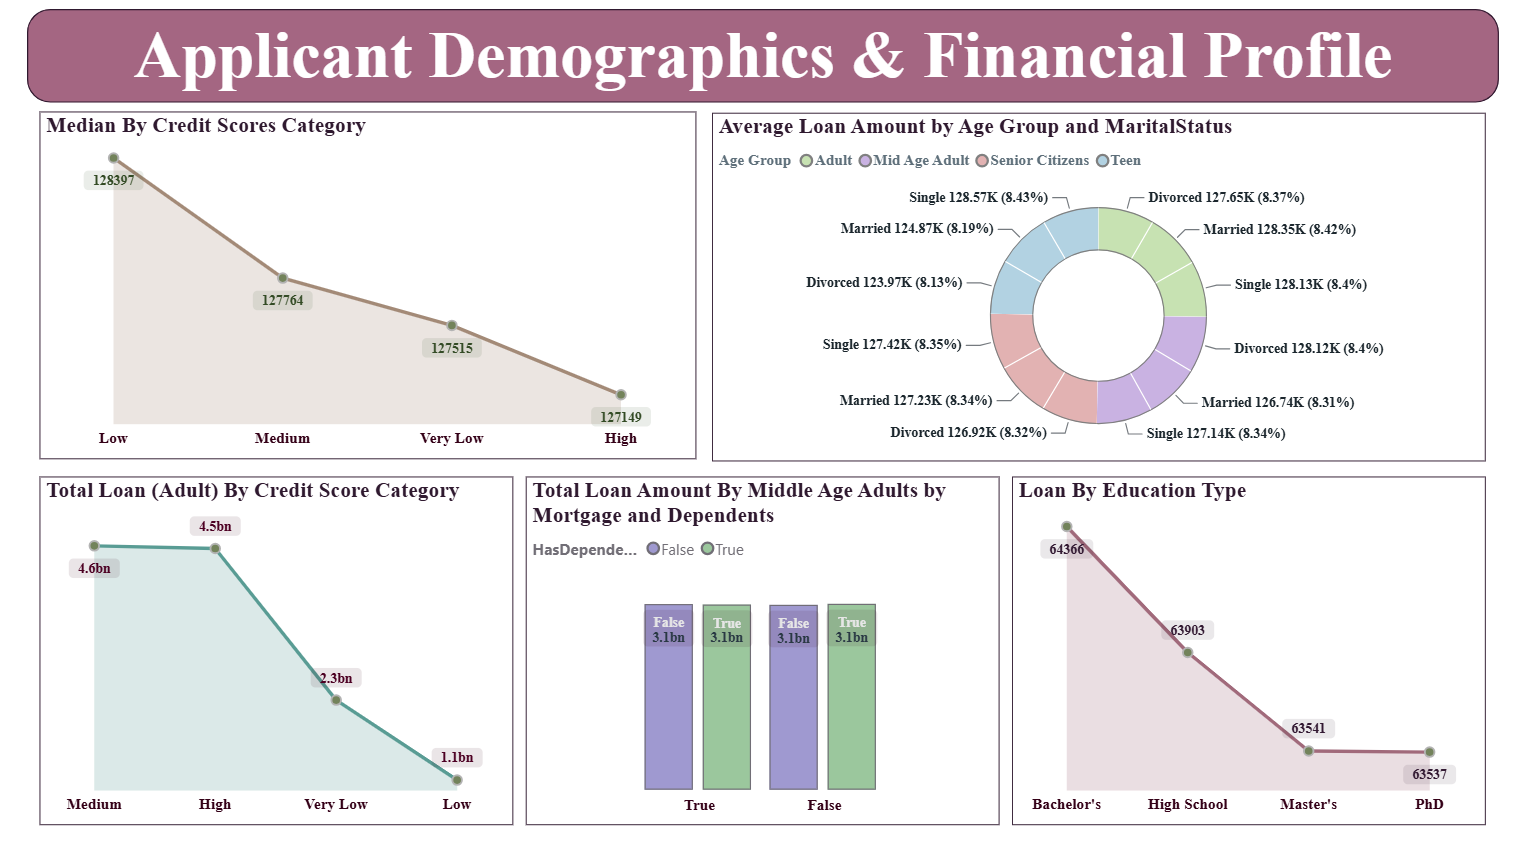

Layout of this report page (visuals, bound fields, positions):
{"tool":"powerbi","page":{"name":"Applicant Demographics & Financial Profile ","canvas":[1280,720],"ordinal":1},"visuals":[{"type":"shape","box":[0,0,1279.9,81.4],"z":0},{"type":"lineChart","title":"Median By Credit Scores Category","fields":{"Category":["Loan_default.Credit Scores Bins"],"Y":["Measures Table - 2.Median By Credit Scores Bins"]},"box":[10.5,89.5,570.9,302.3],"z":1000},{"type":"donutChart","fields":{"Y":["Measures Table - 2.Average Loan Amount"],"Series":["Loan_default.MaritalStatus"],"Category":["Loan_default.Age Group"]},"box":[595.7,90,672.9,302.9],"z":2000},{"type":"lineChart","title":"Total Loan (Adult) By Credit Score Category ","fields":{"Category":["Loan_default.Credit Scores Bins"],"Y":["Measures Table - 2.Total Loan (Credit Bins)"]},"box":[10.5,407,411.6,303.5],"z":3000},{"type":"clusteredColumnChart","title":"Total Loan Amount By Middle Age Adults by Mortgage and Dependents","fields":{"Category":["Loan_default.HasMortgage"],"Series":["Loan_default.HasDependents"],"Y":["Measures Table - 2.Total Loan Amount By Middle Age Adults"]},"box":[433.7,407,411.6,303.5],"z":4000},{"type":"lineChart","title":"Loan By Education Type","fields":{"Y":["Measures Table - 2.Loan By Education Type"],"Category":["Loan_default.Education"]},"box":[857,407,411.6,303.5],"z":5000}]}

Visuals, with their boxes in screenshot pixels (x1, y1, x2, y2), scaled from the page's 1280x720 canvas onto the 1528x845 screenshot:
shape: select_region(0, 0, 1527, 96)
"Median By Credit Scores Category" lineChart: select_region(13, 105, 694, 460)
donutChart - Measures Table - 2.Average Loan Amount x Loan_default.MaritalStatus: select_region(711, 106, 1514, 461)
"Total Loan (Adult) By Credit Score Category " lineChart: select_region(13, 478, 504, 834)
"Total Loan Amount By Middle Age Adults by Mortgage and Dependents" clusteredColumnChart: select_region(518, 478, 1009, 834)
"Loan By Education Type" lineChart: select_region(1023, 478, 1514, 834)
